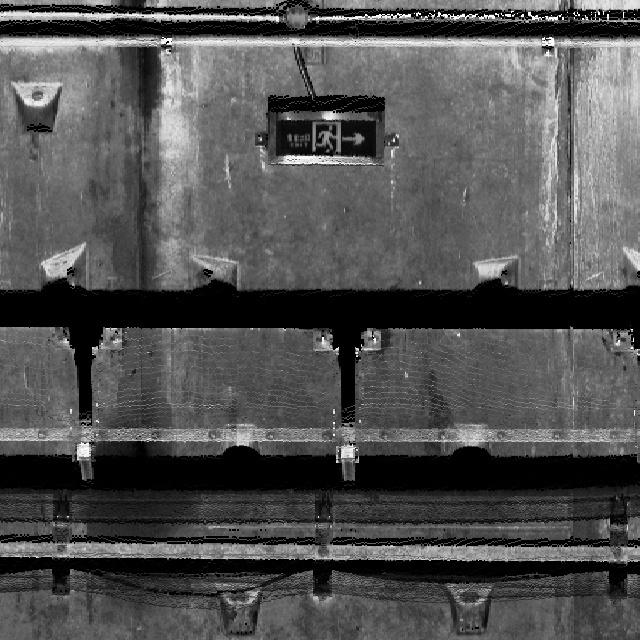leakage: (77, 323, 195, 576), (90, 2, 179, 284), (546, 2, 596, 235)
